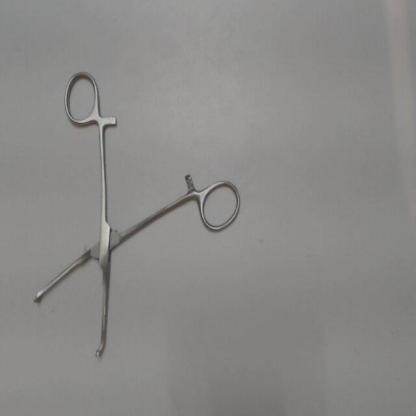Allis Tissue Forceps: (26, 63, 248, 367)
